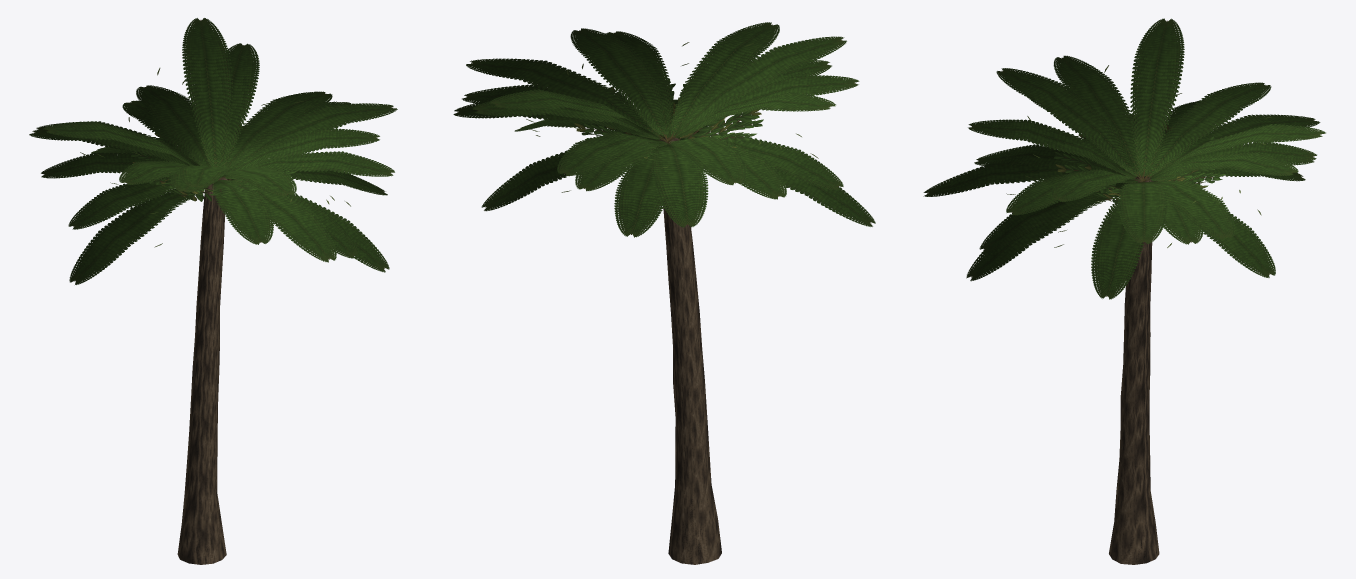
The model's file is ENV_FruitTree_01.fbx.
The picture shows the model from 3 angles, left to right: view 1: azimuth 30°, elevation 25°; view 2: azimuth 150°, elevation 25°; view 3: azimuth 270°, elevation 25°; orthographic projection. The views are drawn at different scales.
Parts seen in each view (by area): view 1: ENV_FruitTree_01_LOD0; view 2: ENV_FruitTree_01_LOD0; view 3: ENV_FruitTree_01_LOD0.
Boxes of the visible parts, <box> form: ENV_FruitTree_01_LOD0: <box>29,18,397,564</box>; ENV_FruitTree_01_LOD0: <box>453,22,875,564</box>; ENV_FruitTree_01_LOD0: <box>923,18,1325,564</box>.
Size of what is drawn, in the model's own units: 6.3 by 7.55 by 6.22.
